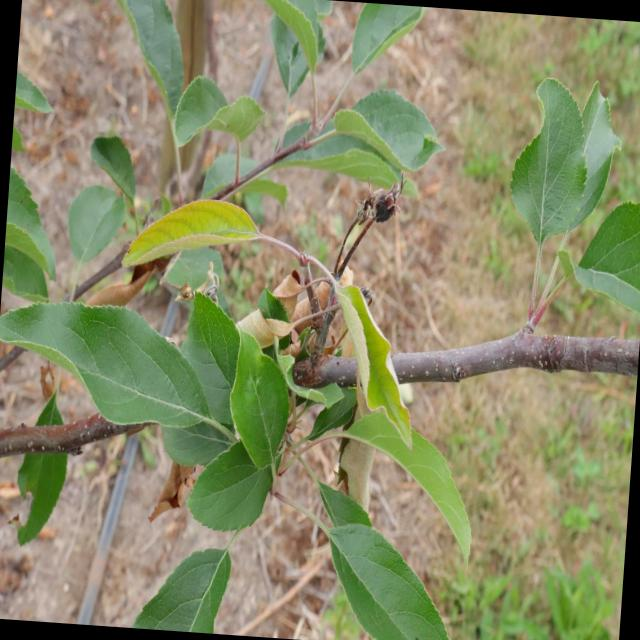-FireBlight-: (252, 270, 361, 378)
